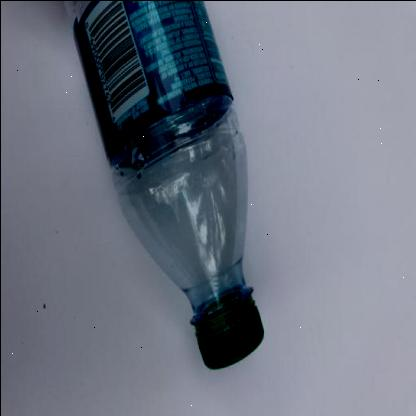Plastic Bottle: (68, 0, 263, 369)
